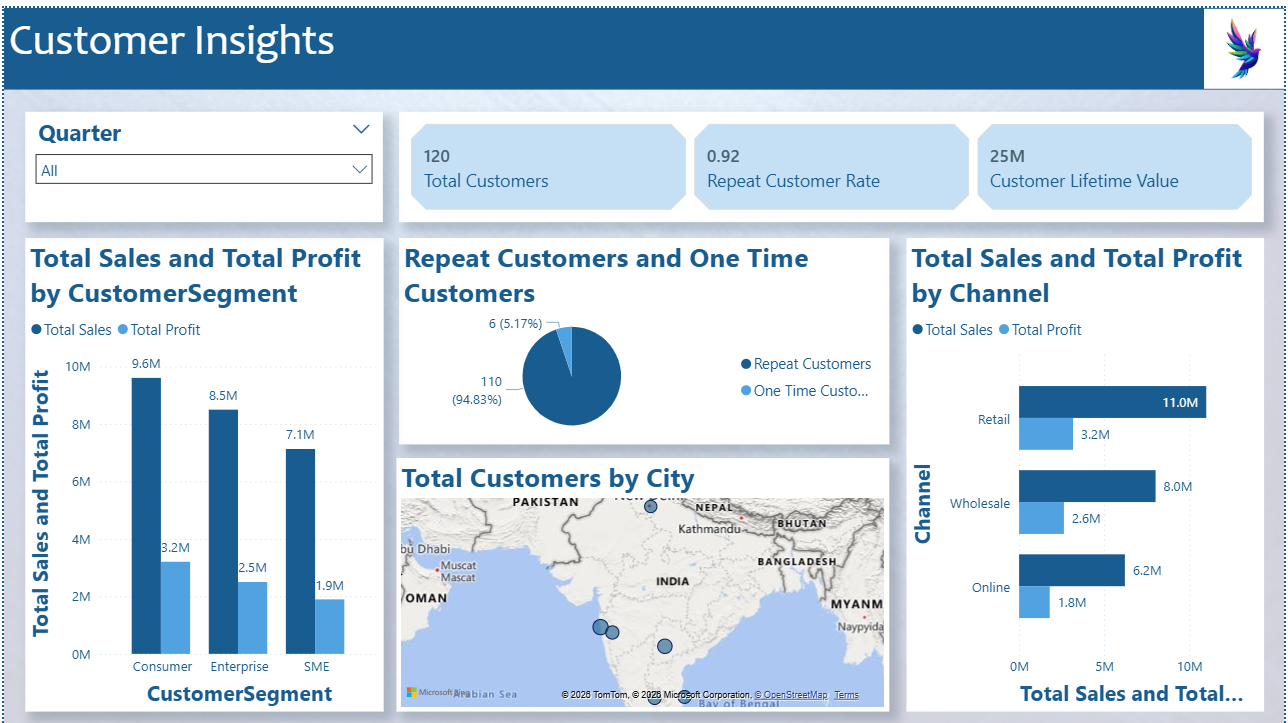

This screenshot's page, from the dashboard's own definition file:
{"tool":"powerbi","page":{"name":"Customer Insights","canvas":[1280,720],"ordinal":3},"visuals":[{"type":"cardVisual","fields":{"Data":["Dim_Customer.Total Customers","Dim_Customer.Repeat Customer Rate","Dim_Customer.Customer Lifetime Value"]},"box":[395,103.8,865,110],"z":0},{"type":"pieChart","fields":{"Y":["Dim_Customer.Repeat Customers","Dim_Customer.One Time Customers"]},"box":[395,230,490,206.2],"z":1000},{"type":"clusteredColumnChart","fields":{"Category":["Dim_Customer.CustomerSegment"],"Y":["Fact_SalesTargets.Total Sales","Dim_Customer.Total Profit"]},"box":[21.7,230,358.3,473.3],"z":2000},{"type":"clusteredBarChart","fields":{"Category":["Dim_Customer.Channel"],"Y":["Fact_SalesTargets.Total Sales","Dim_Customer.Total Profit"]},"box":[902.5,230,357.5,473.8],"z":3000},{"type":"map","fields":{"Category":["Dim_Customer.City"],"Size":["Dim_Customer.Total Customers"]},"box":[392.5,450,492.5,253.8],"z":4000},{"type":"slicer","fields":{"Values":["Dim_Date.Quarter"]},"box":[21.2,103.8,357.5,110],"z":5000},{"type":"textbox","box":[0,0,1280,81.2],"z":6000},{"type":"image","box":[1200,0,80,81.2],"z":7000}]}

Visuals, with their boxes in screenshot pixels (x1, y1, x2, y2), scaled from the page's 1280x720 canvas onto the 1288x723 screenshot:
cardVisual - Dim_Customer.Total Customers x Dim_Customer.Repeat Customer Rate: x1=397, y1=104, x2=1268, y2=215
pieChart - Dim_Customer.Repeat Customers x Dim_Customer.One Time Customers: x1=397, y1=231, x2=891, y2=438
clusteredColumnChart - Dim_Customer.CustomerSegment x Fact_SalesTargets.Total Sales: x1=22, y1=231, x2=382, y2=706
clusteredBarChart - Dim_Customer.Channel x Fact_SalesTargets.Total Sales: x1=908, y1=231, x2=1268, y2=707
map - Dim_Customer.City x Dim_Customer.Total Customers: x1=395, y1=452, x2=891, y2=707
slicer - Dim_Date.Quarter: x1=21, y1=104, x2=381, y2=215
textbox: x1=0, y1=0, x2=1287, y2=82
image: x1=1208, y1=0, x2=1287, y2=82
